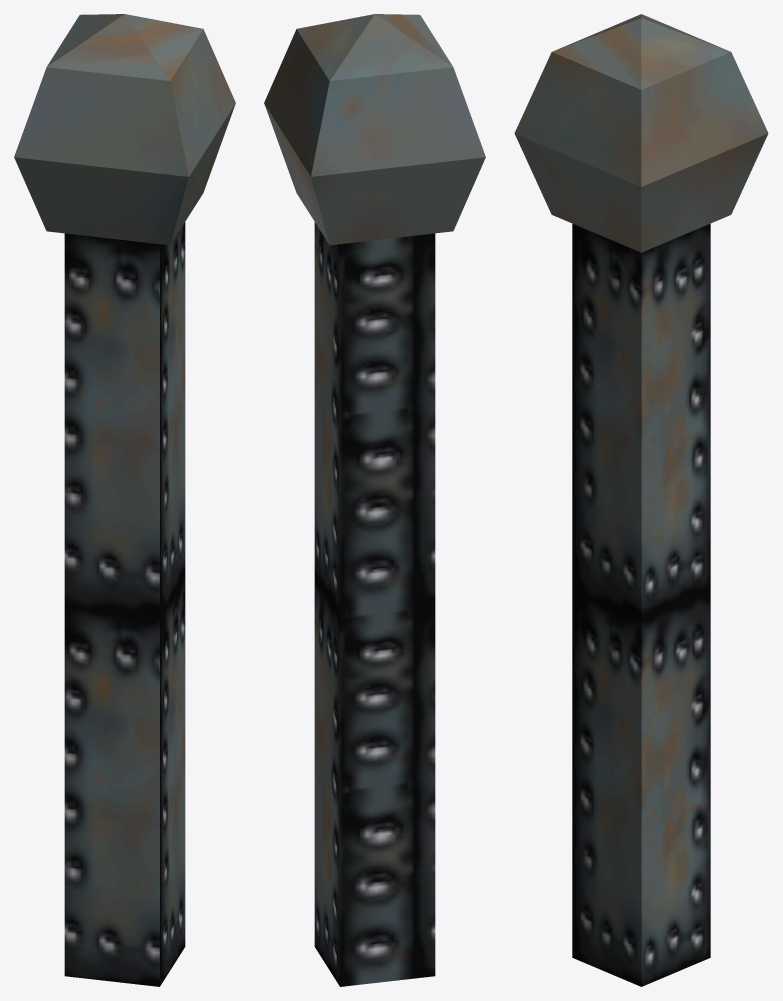
Rendered from GeländerSteher [Gepanzert]_1456.glb.
3 views of the same model, side by side, from view 1: azimuth 30°, elevation 25°; view 2: azimuth 150°, elevation 25°; view 3: azimuth 270°, elevation 25° (orthographic).
Parts seen in each view (by area): view 1: pCylinderShape1, pSphereShape1; view 2: pCylinderShape1, pSphereShape1; view 3: pCylinderShape1, pSphereShape1.
Boxes of the visible parts, left/top/right/bottom form: pCylinderShape1: left=64, top=222, right=185, bottom=986; pSphereShape1: left=14, top=14, right=235, bottom=245; pCylinderShape1: left=314, top=222, right=435, bottom=986; pSphereShape1: left=264, top=14, right=485, bottom=245; pCylinderShape1: left=572, top=223, right=710, bottom=986; pSphereShape1: left=514, top=14, right=768, bottom=252.
Size of the model in its own units: 0.0446 by 0.1821 by 0.0446.
Materials: 2 (2 with a texture image).
